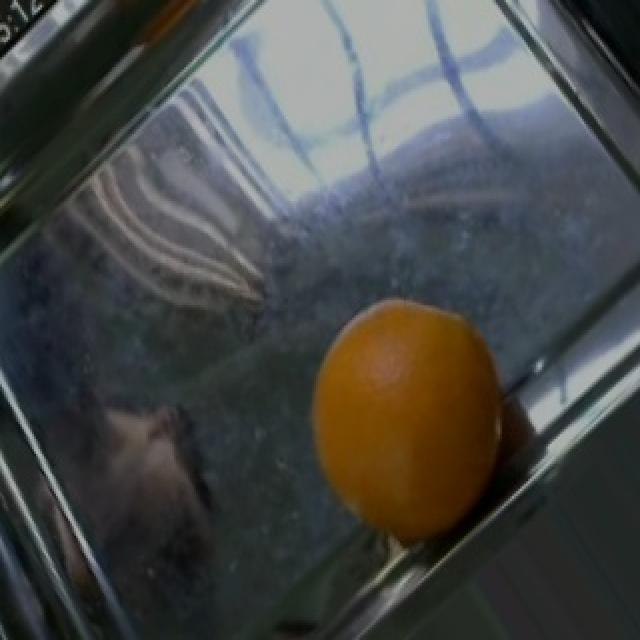Fruit: (286, 290, 526, 561)
